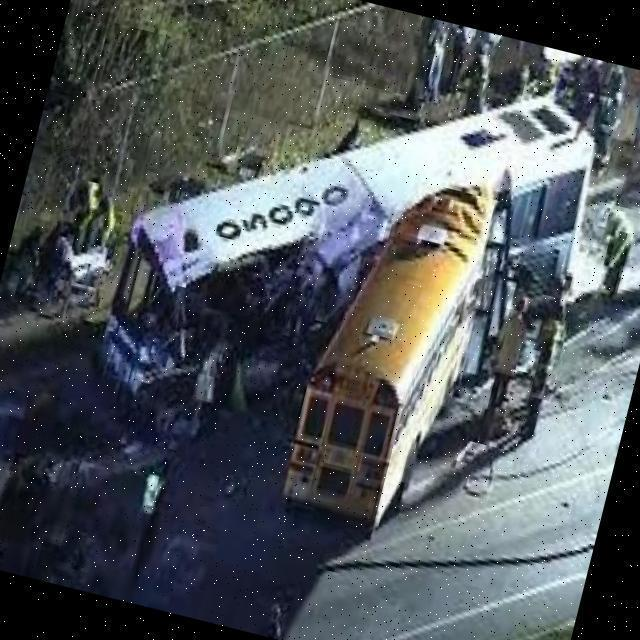accident: (176, 121, 491, 470)
